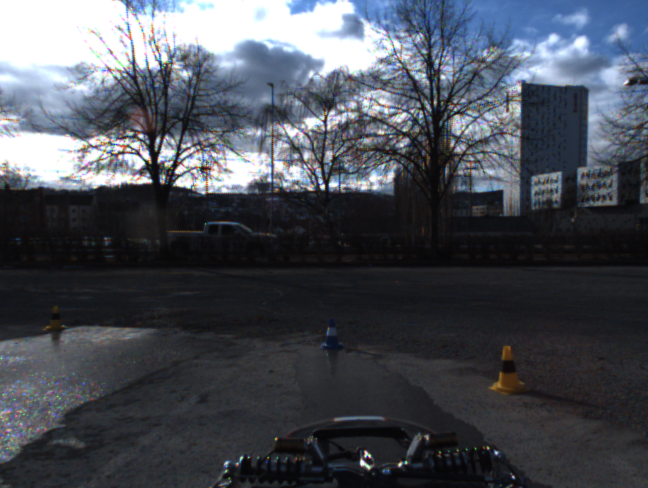cone-small-blue: (319, 319, 345, 352)
cone-small-yellow: (487, 345, 532, 396), (41, 306, 67, 331)
